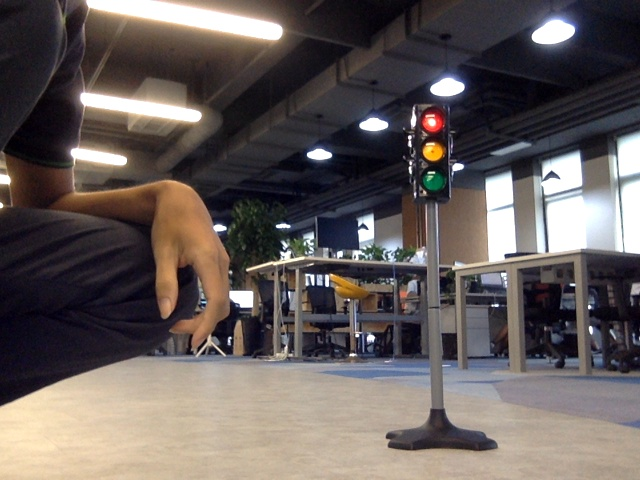red: (416, 110, 448, 190)
